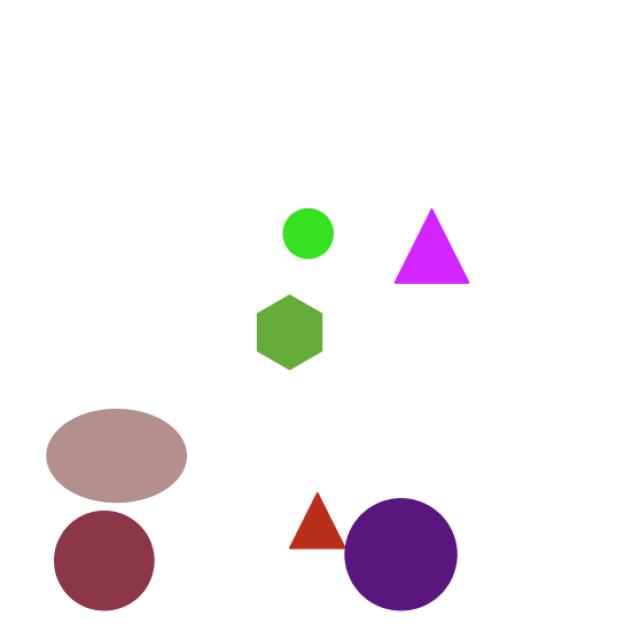Circle: (334, 495, 469, 617), (47, 505, 171, 613), (278, 198, 350, 268)
Hexagon: (238, 281, 338, 382)
Oval: (36, 405, 208, 510)
Triangle: (382, 206, 484, 316), (279, 484, 350, 556)
